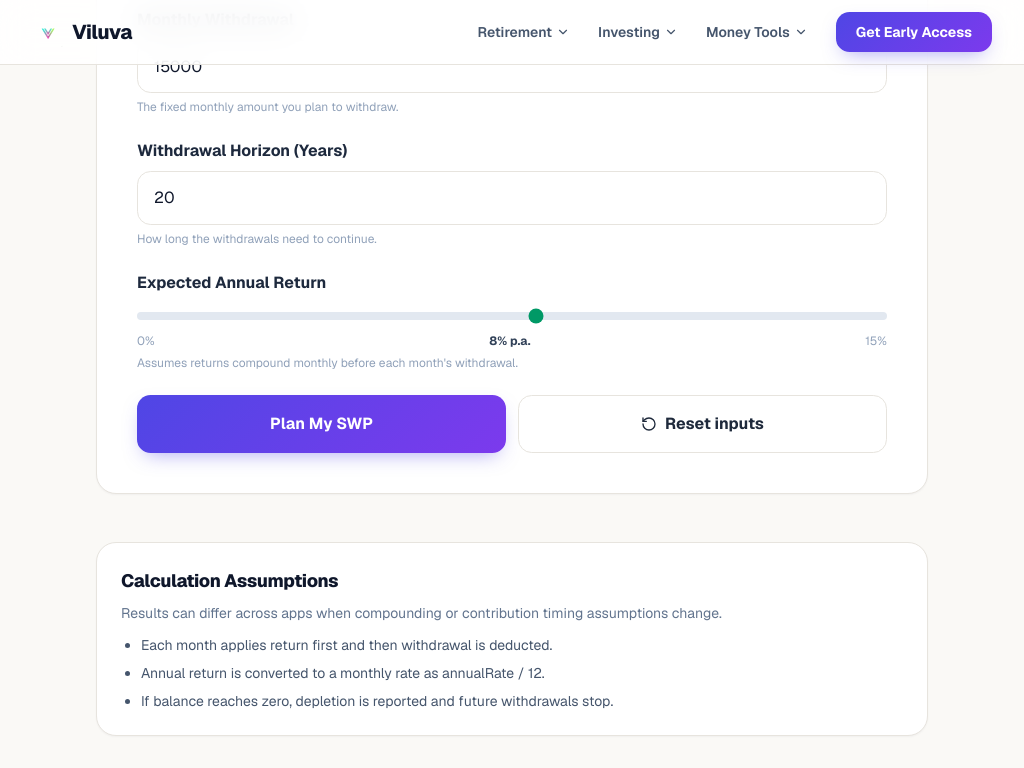
Test: Investment calculators UI › calculates the default SWP outcome
(page scrolled)
Click the button "Plan My SWP".
click(322, 424)  # box [137,395,506,453]
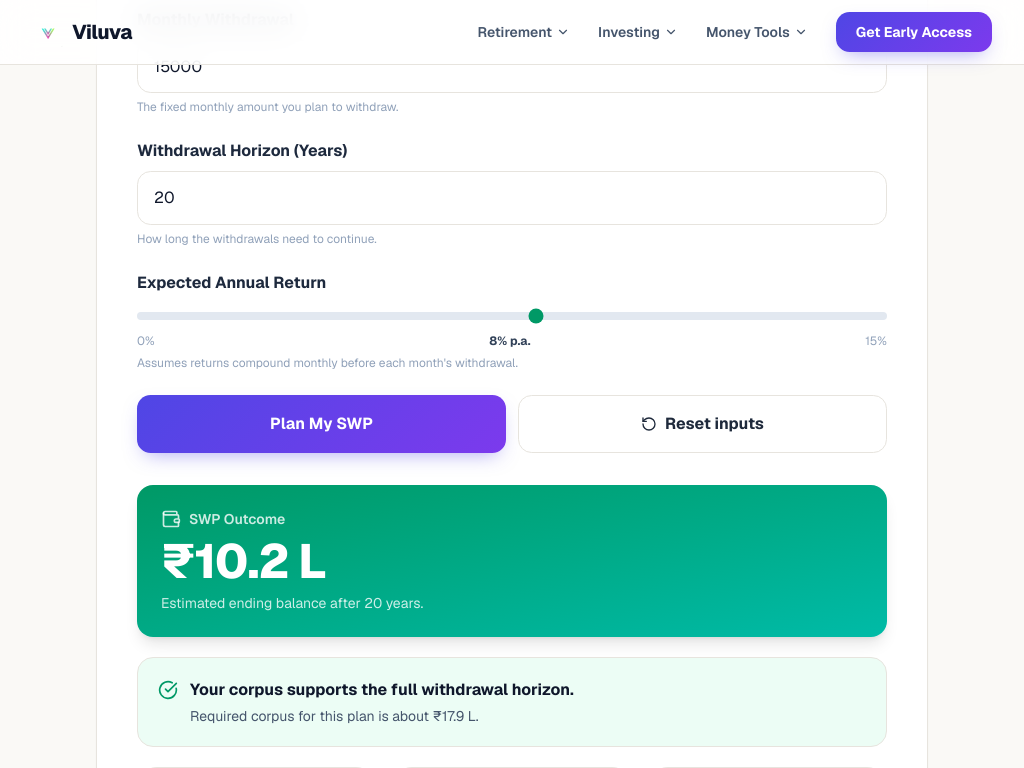
Check: the text "SWP Outcome" is shown, box [161,509,285,529]
Check: the text "Your corpus supports the full withdrawal horizon." is shown, box [190,678,574,702]
Check: the text "₹10.2 L" is shown, box [161,530,326,592]
